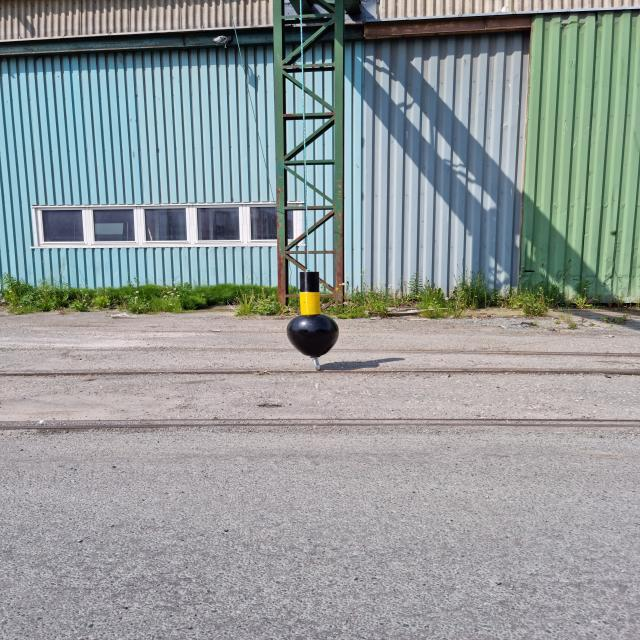east: (287, 272, 339, 358)
